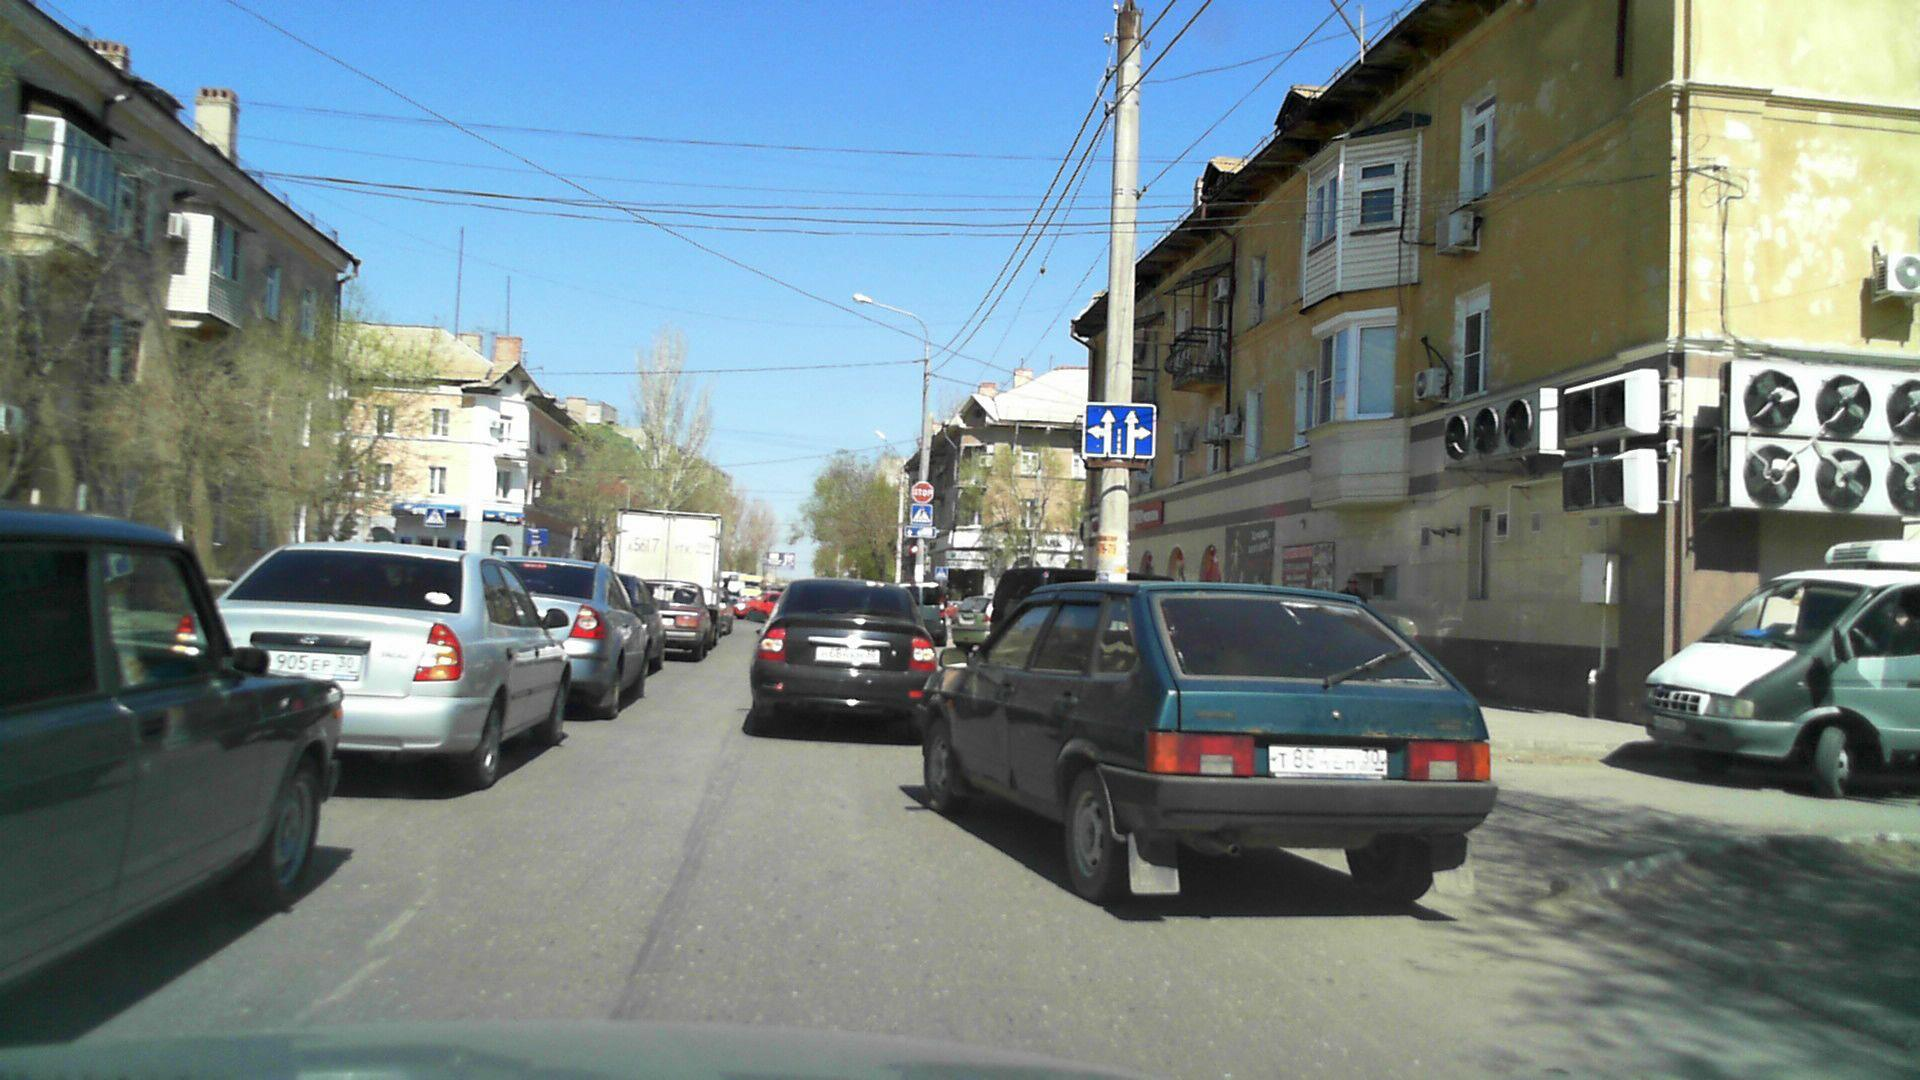2_5: (911, 480, 934, 502)
5_15_1: (1084, 405, 1155, 460)
5_19_1: (911, 504, 931, 526)
5_19_2: (427, 508, 444, 526)
6_15_1: (906, 526, 936, 538)
